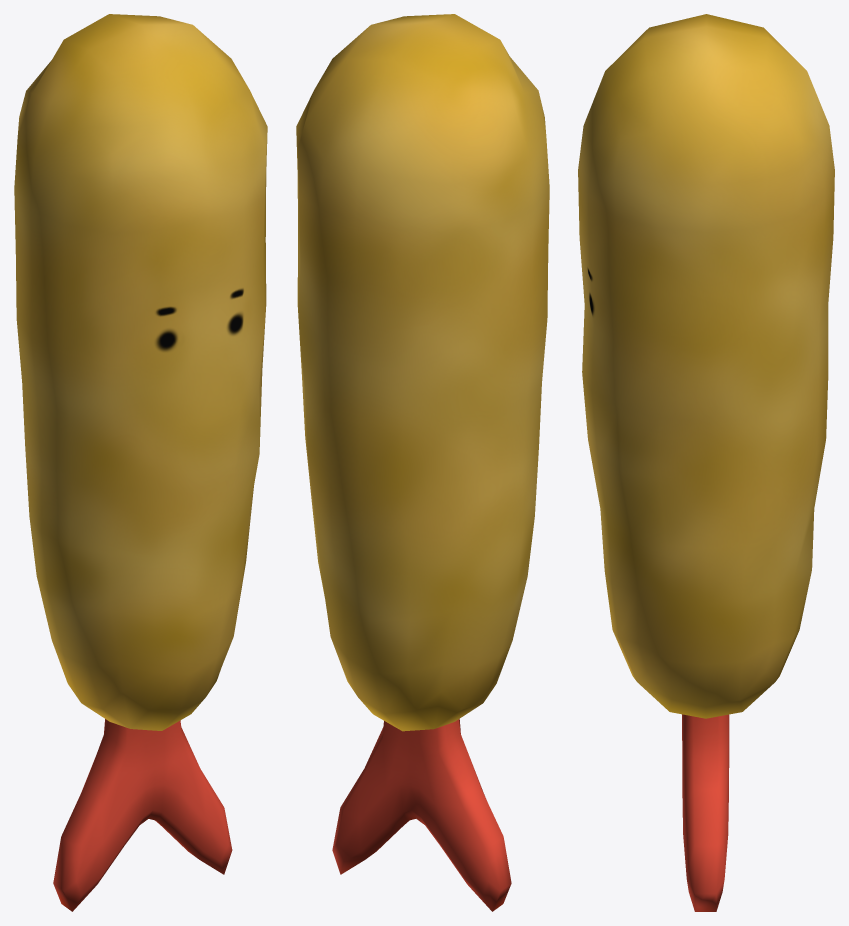
Rendered from 새우튀김.fbx.
3 views of the same model, side by side, from view 1: azimuth 30°, elevation 25°; view 2: azimuth 150°, elevation 25°; view 3: azimuth 270°, elevation 25° (orthographic).
Visible parts, largest first — view 1: Cylinder008, Box014; view 2: Cylinder008, Box014; view 3: Cylinder008, Box014.
Boxes of the visible parts, x1=… form: Cylinder008: x1=14, y1=14, x2=267, y2=730; Box014: x1=53, y1=719, x2=232, y2=911; Cylinder008: x1=296, y1=14, x2=549, y2=731; Box014: x1=332, y1=719, x2=511, y2=911; Cylinder008: x1=578, y1=14, x2=834, y2=718; Box014: x1=682, y1=714, x2=729, y2=911.
Bounding box in the file's own units: 40.41 × 41.54 × 151.
Materials: 2 (2 with a texture image).
